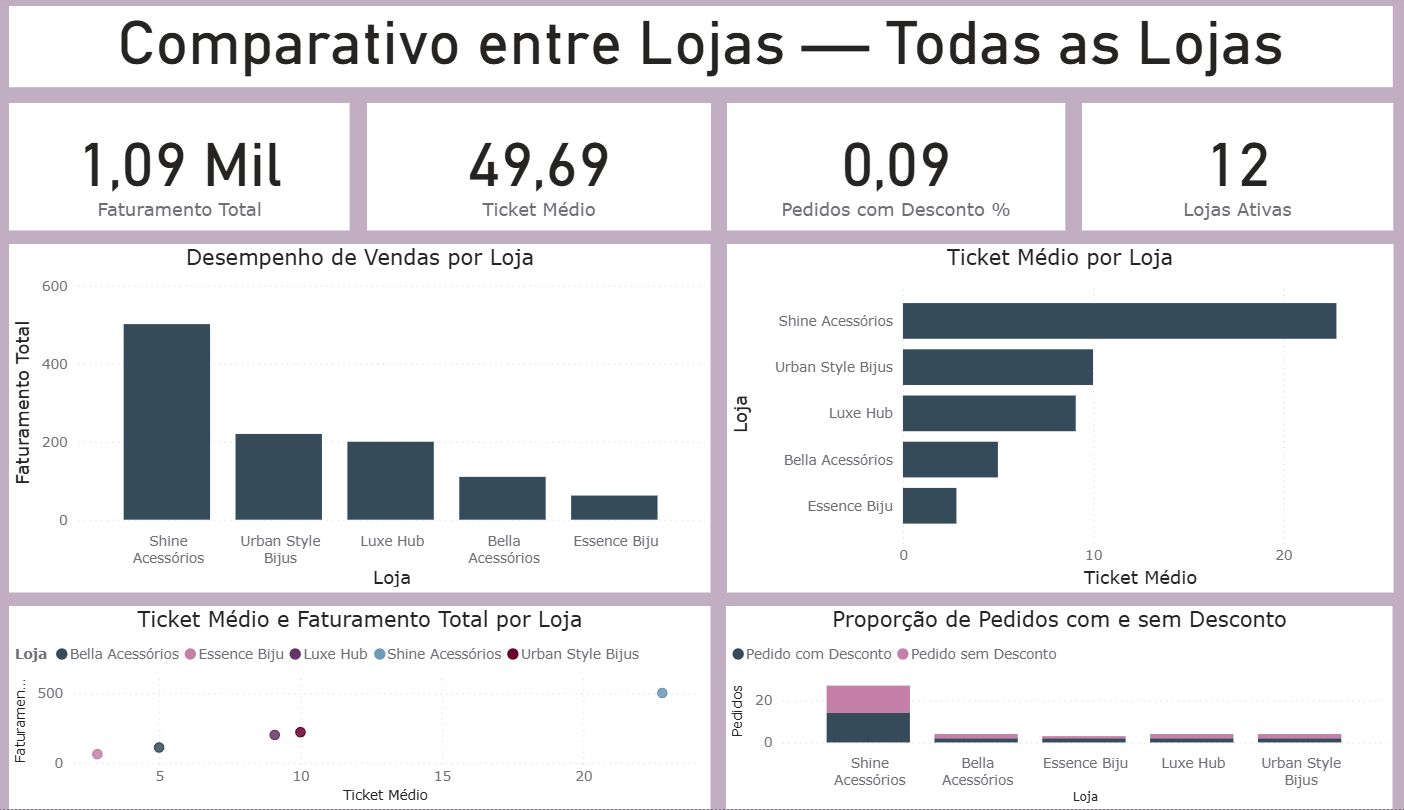

The page's visual inventory and layout, read from the dashboard file:
{"tool":"powerbi","page":{"name":"Comparativo de Lojas","canvas":[1280,720],"ordinal":4},"visuals":[{"type":"card","fields":{"Values":["acessoryhub vw_padronizacao_pedidos.Título Executivo"]},"box":[23.9,8,1227.2,71.8],"z":0},{"type":"card","fields":{"Values":["acessoryhub vw_lojas_padronizadas.Faturamento Total"]},"box":[23.9,94,302.4,113.5],"z":1000},{"type":"card","fields":{"Values":["acessoryhub vw_lojas_padronizadas.Ticket Médio"]},"box":[341.4,94,305,113.5],"z":2000},{"type":"card","fields":{"Values":["acessoryhub vw_padronizacao_pedidos.Pedidos com Desconto %"]},"box":[660.6,94,299.7,113.5],"z":3000},{"type":"card","fields":{"Values":["acessoryhub vw_lojas_padronizadas.Lojas Ativas"]},"box":[975.4,94,275.8,113.5],"z":4000},{"type":"clusteredColumnChart","title":"Desempenho de Vendas por Loja","fields":{"Category":["acessoryhub vw_lojas_padronizadas.Loja"],"Y":["acessoryhub vw_lojas_padronizadas.Faturamento Total"]},"box":[23.9,219,622.5,309.5],"z":5000},{"type":"clusteredBarChart","fields":{"Category":["acessoryhub vw_lojas_padronizadas.Loja"],"Y":["acessoryhub vw_lojas_padronizadas.Ticket Médio"]},"box":[660.6,219,590.5,309.5],"z":6000},{"type":"scatterChart","fields":{"X":["acessoryhub vw_lojas_padronizadas.Ticket Médio"],"Series":["acessoryhub vw_lojas_padronizadas.Loja"],"Y":["acessoryhub vw_lojas_padronizadas.Faturamento Total"]},"box":[23.9,540,622.5,180],"z":7000},{"type":"columnChart","title":"Proporção de Pedidos com e sem Desconto","fields":{"Category":["acessoryhub vw_lojas_padronizadas.Loja"],"Y":["acessoryhub vw_padronizacao_pedidos.Pedido com Desconto","acessoryhub vw_padronizacao_pedidos.Pedido sem Desconto"]},"box":[659.7,540,591.4,180],"z":8000}]}

Visuals, with their boxes in screenshot pixels (x1, y1, x2, y2), scaled from the page's 1280x720 canvas onto the 1404x810 screenshot:
card - acessoryhub vw_padronizacao_pedidos.Título Executivo: box(26, 9, 1372, 90)
card - acessoryhub vw_lojas_padronizadas.Faturamento Total: box(26, 106, 358, 233)
card - acessoryhub vw_lojas_padronizadas.Ticket Médio: box(374, 106, 709, 233)
card - acessoryhub vw_padronizacao_pedidos.Pedidos com Desconto %: box(725, 106, 1053, 233)
card - acessoryhub vw_lojas_padronizadas.Lojas Ativas: box(1070, 106, 1372, 233)
"Desempenho de Vendas por Loja" clusteredColumnChart: box(26, 246, 709, 595)
clusteredBarChart - acessoryhub vw_lojas_padronizadas.Loja x acessoryhub vw_lojas_padronizadas.Ticket Médio: box(725, 246, 1372, 595)
scatterChart - acessoryhub vw_lojas_padronizadas.Ticket Médio x acessoryhub vw_lojas_padronizadas.Loja: box(26, 608, 709, 809)
"Proporção de Pedidos com e sem Desconto" columnChart: box(724, 608, 1372, 809)
